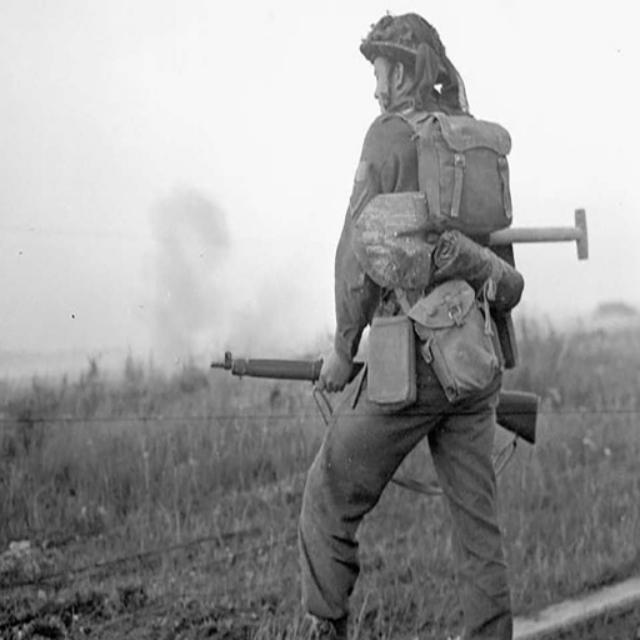other: (298, 9, 518, 635)
